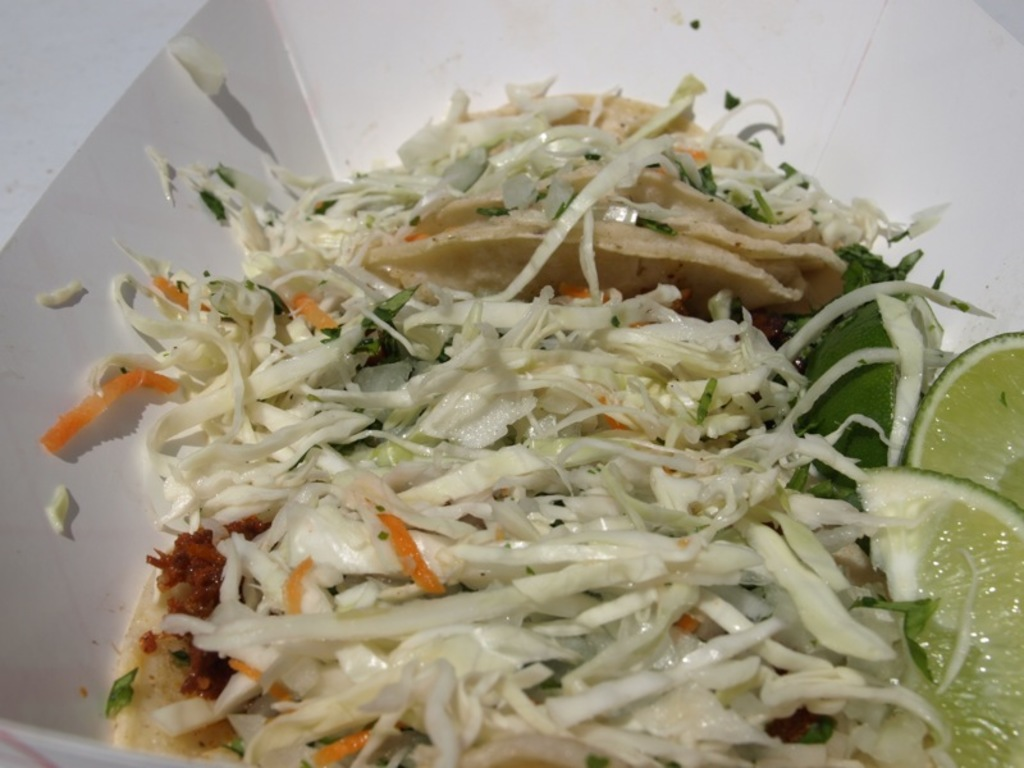Cabbage: (35, 0, 998, 768)
